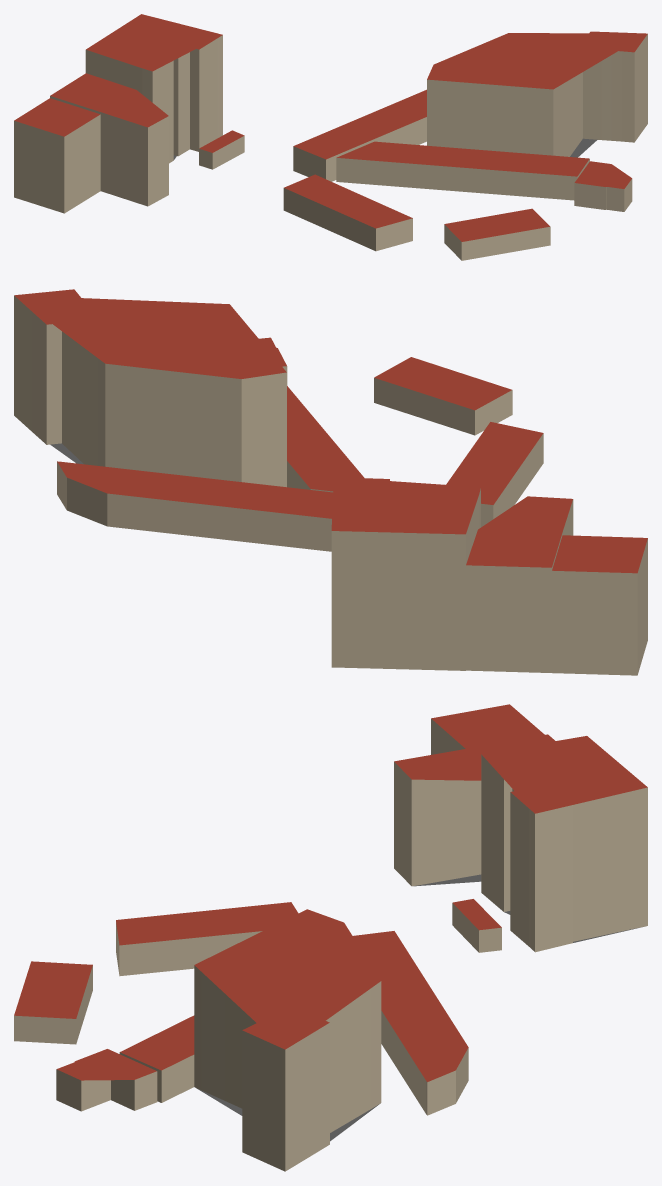
Rendered from ingolstadt_10_buildings_LOD1.obj.
3 renders of one model, top to bottom at view 1: azimuth 30°, elevation 25°; view 2: azimuth 150°, elevation 25°; view 3: azimuth 270°, elevation 25°, orthographic. The views are drawn at different scales.
Visible parts, largest first — view 1: bldg_DEBY_107777145, bldg_DEBY_4392510, bldg_DEBY_4392842, bldg_DEBY_4392436, bldg_DEBY_4392435, bldg_DEBY_4392840, bldg_DEBY_104848284, bldg_DEBY_4392841, bldg_DEBY_4392882, bldg_DEBY_4392883; view 2: bldg_DEBY_107777145, bldg_DEBY_4392510, bldg_DEBY_104848284, bldg_DEBY_4392436, bldg_DEBY_4392435, bldg_DEBY_4392841, bldg_DEBY_4392840, bldg_DEBY_4392842; view 3: bldg_DEBY_107777145, bldg_DEBY_4392510, bldg_DEBY_4392436, bldg_DEBY_104848284, bldg_DEBY_4392840, bldg_DEBY_4392841, bldg_DEBY_4392882, bldg_DEBY_4392435, bldg_DEBY_4392842, bldg_DEBY_4392883.
Part boxes in pixels (x1,y1,x2,y2): bldg_DEBY_107777145: (427, 31, 647, 157); bldg_DEBY_4392510: (85, 14, 222, 163); bldg_DEBY_4392842: (336, 141, 589, 200); bldg_DEBY_4392436: (50, 73, 168, 206); bldg_DEBY_4392435: (14, 98, 100, 213); bldg_DEBY_4392840: (283, 174, 412, 251); bldg_DEBY_104848284: (293, 89, 426, 181); bldg_DEBY_4392841: (444, 208, 550, 260); bldg_DEBY_4392882: (574, 161, 632, 211); bldg_DEBY_4392883: (199, 130, 244, 169); bldg_DEBY_107777145: (14, 289, 286, 487); bldg_DEBY_4392510: (331, 477, 480, 670); bldg_DEBY_104848284: (57, 461, 333, 551); bldg_DEBY_4392436: (466, 496, 573, 672); bldg_DEBY_4392435: (552, 535, 647, 675); bldg_DEBY_4392841: (374, 357, 512, 435); bldg_DEBY_4392840: (446, 422, 543, 527); bldg_DEBY_4392842: (287, 386, 364, 492); bldg_DEBY_107777145: (194, 909, 381, 1171); bldg_DEBY_4392510: (481, 736, 647, 952); bldg_DEBY_4392436: (394, 734, 555, 886); bldg_DEBY_104848284: (353, 931, 468, 1115); bldg_DEBY_4392840: (116, 902, 298, 976); bldg_DEBY_4392841: (14, 961, 92, 1044); bldg_DEBY_4392882: (56, 1049, 157, 1111); bldg_DEBY_4392435: (431, 704, 544, 754); bldg_DEBY_4392842: (119, 1015, 194, 1102); bldg_DEBY_4392883: (452, 899, 501, 952).
Bounding box in the file's own units: 79.47 × 14.12 × 58.57.
